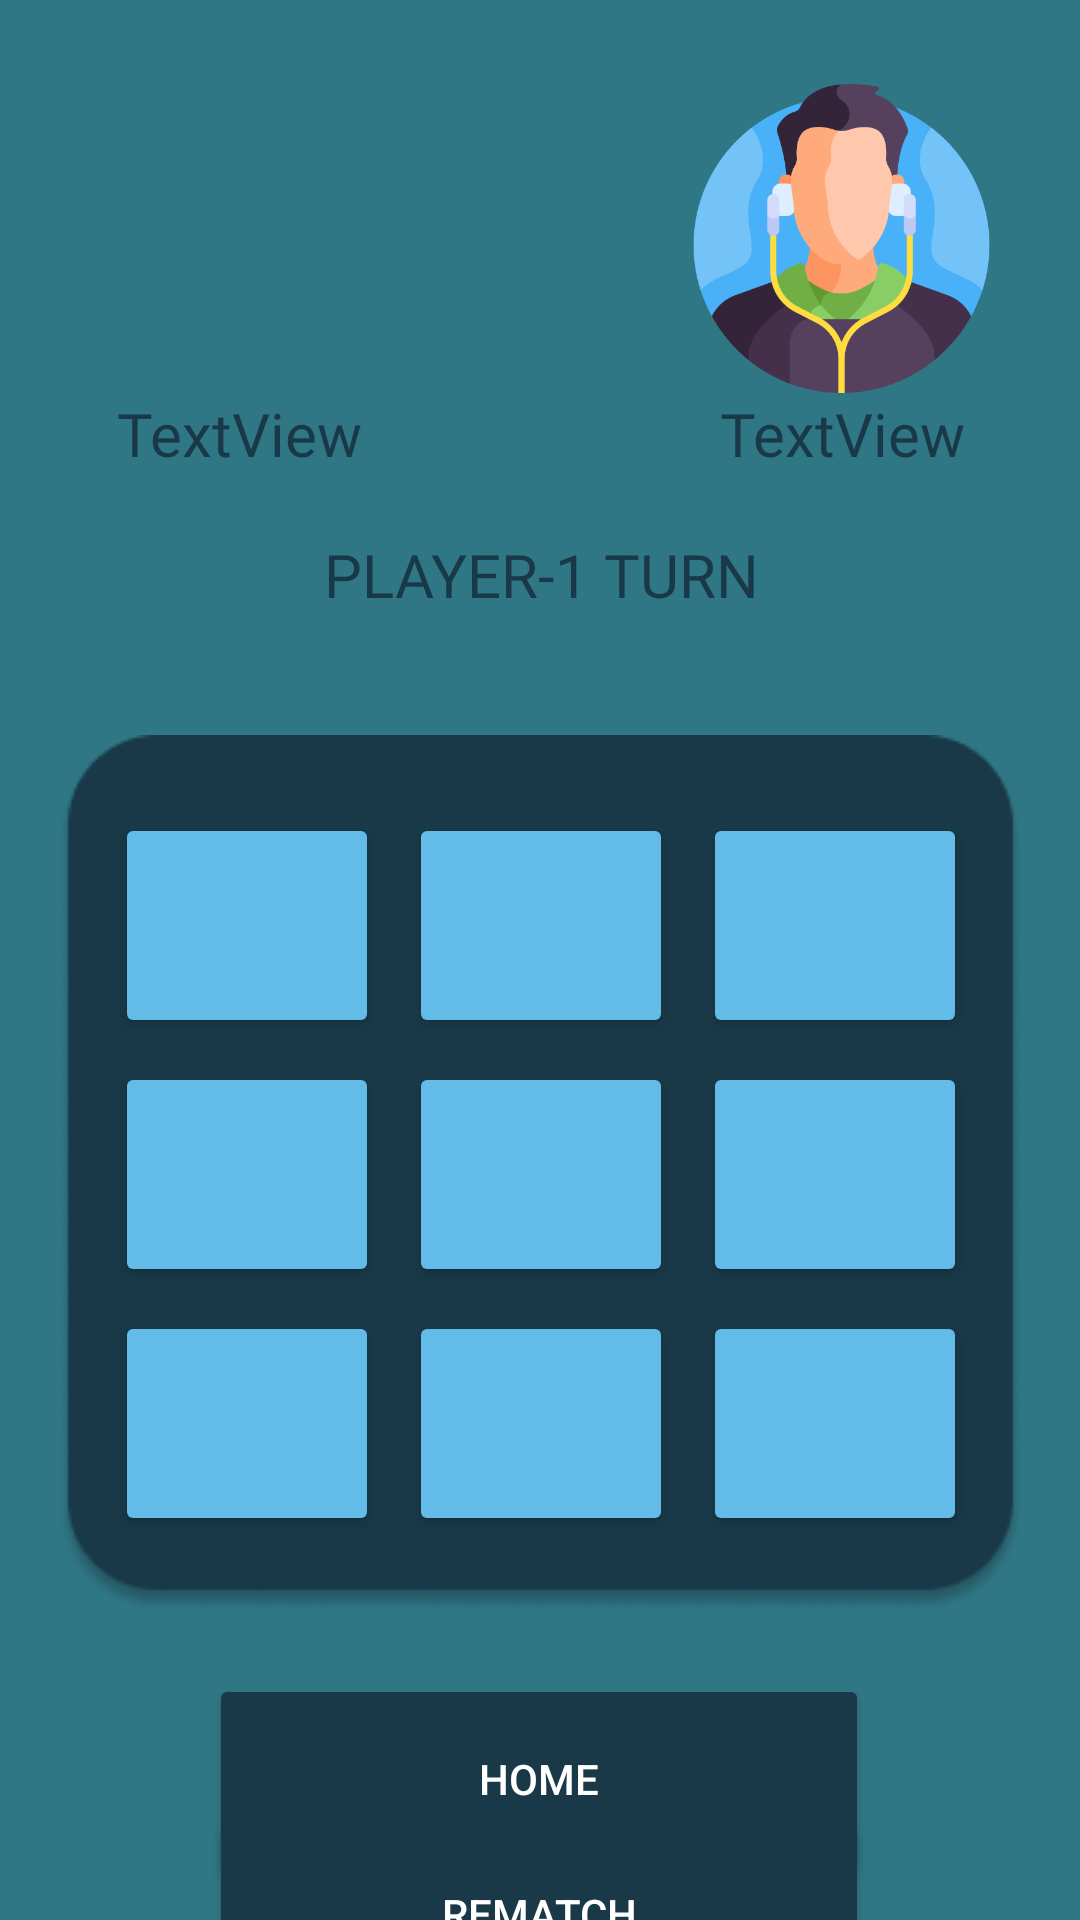

Named icons in this screenshot (1080w x 1920h) and their centers, [x,y]:
gamer: [841,238]
